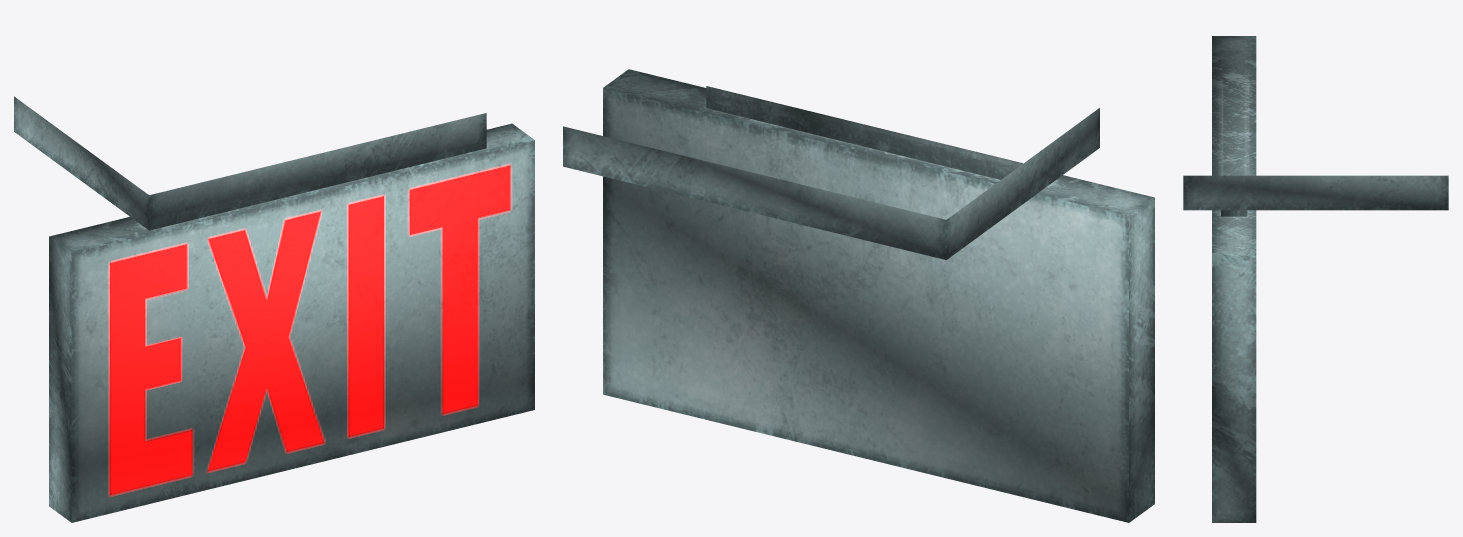
File: exit_sing.glb
The picture shows the model from 3 angles, left to right: view 1: azimuth 30°, elevation 25°; view 2: azimuth 150°, elevation 25°; view 3: azimuth 270°, elevation 25°; orthographic projection. The views are drawn at different scales.
Visible parts, largest first — view 1: Exit_Sing; view 2: Exit_Sing; view 3: Exit_Sing.
Boxes of the visible parts, x1,y1,x2,y2 form: Exit_Sing: (14, 96, 534, 522); Exit_Sing: (563, 69, 1154, 522); Exit_Sing: (1183, 36, 1448, 522).
Size of the model in its own units: 0.464 by 0.3093 by 0.2344.
1 material, 1 textured.
